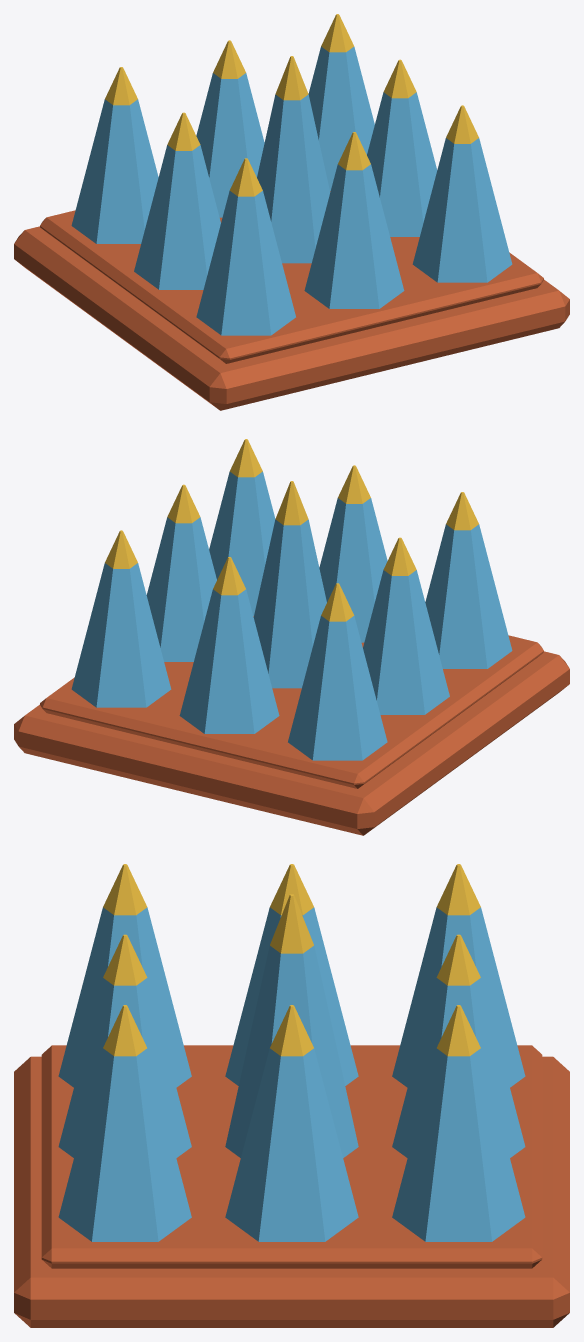
File: spike_hazard.obj
3 views of the same model, one above another, from view 1: azimuth 30°, elevation 25°; view 2: azimuth 150°, elevation 25°; view 3: azimuth 270°, elevation 25° (orthographic). The views are drawn at different scales.
Parts seen in each view (by area): view 1: spike_hazard; view 2: spike_hazard; view 3: spike_hazard.
Boxes of the visible parts, <box> form: spike_hazard: <box>14,14,569,410</box>; spike_hazard: <box>14,439,569,835</box>; spike_hazard: <box>14,864,569,1327</box>.
Size of the model in its own units: 1 by 0.64 by 1.
